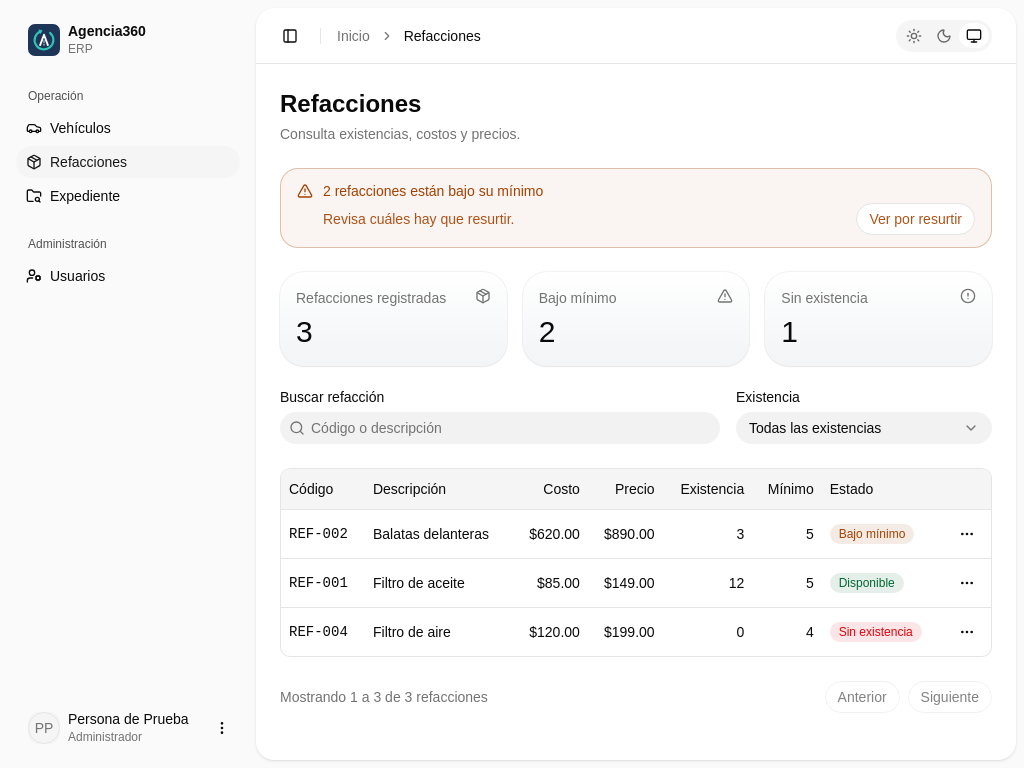
Test: Inventario de refacciones › el historial avisa cuando la refacción no tiene recepciones
Click the button named "Acciones de REF-004" at [967, 632], box [951,616,983,648]
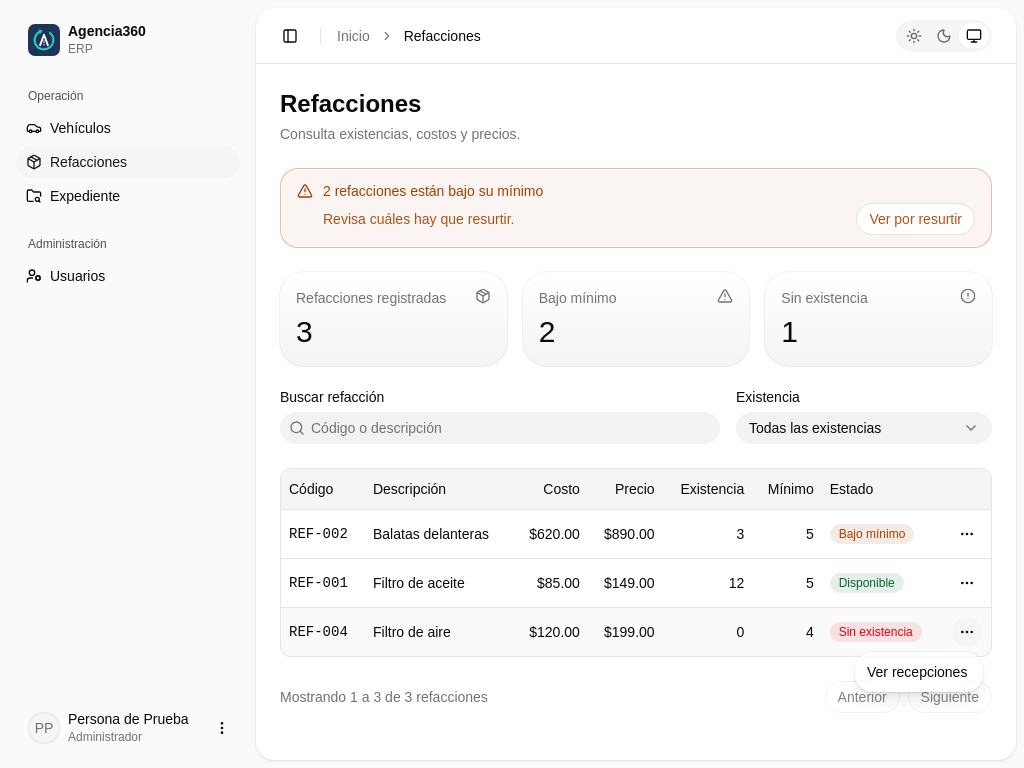
Click the menu item "Ver recepciones" at [917, 672], box [867,664,967,680]
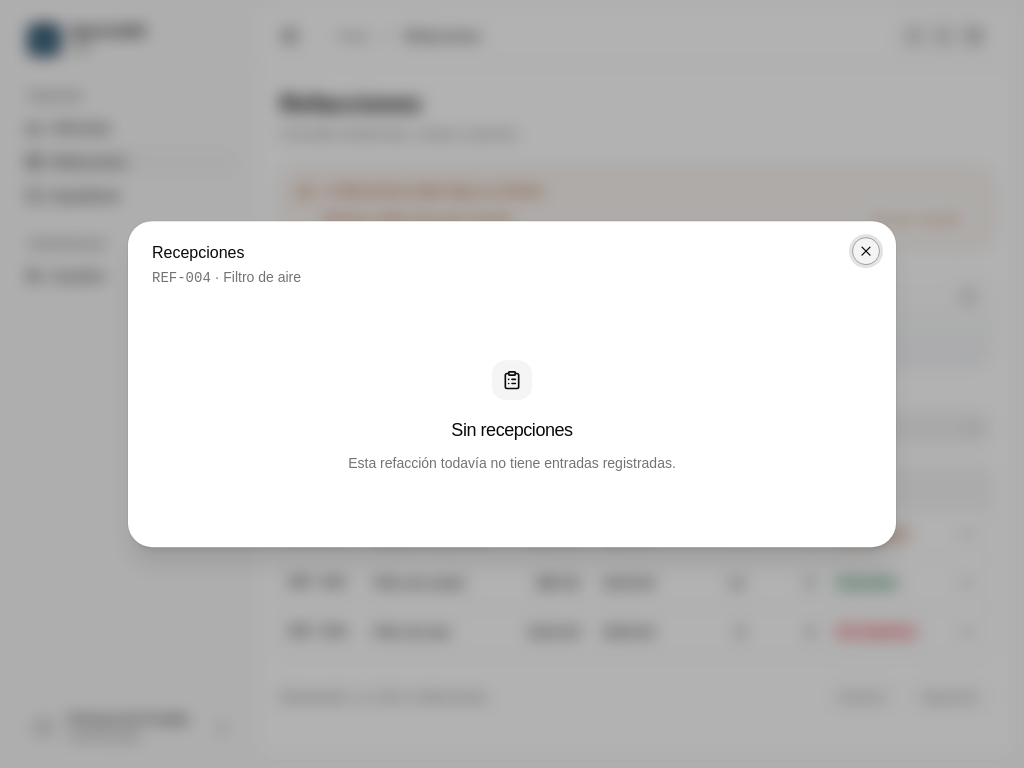
Now the text "Sin recepciones" is shown, box [451,416,573,444]
